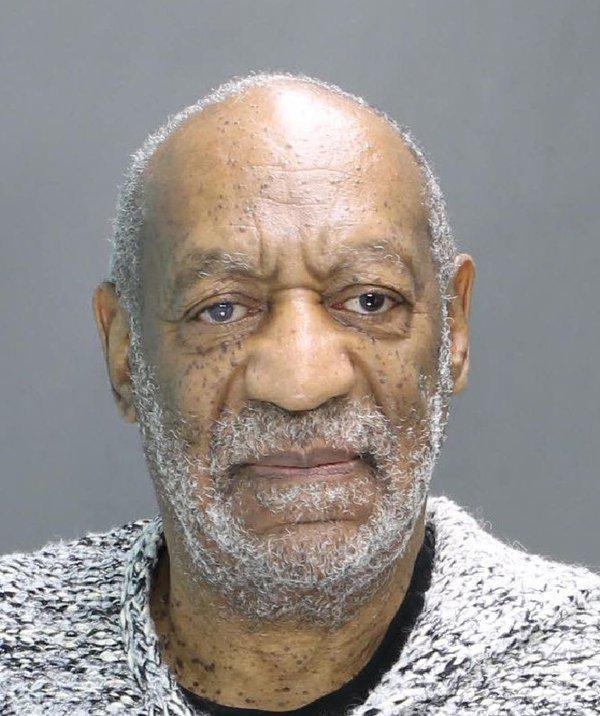Sober: (144, 130, 428, 579)
